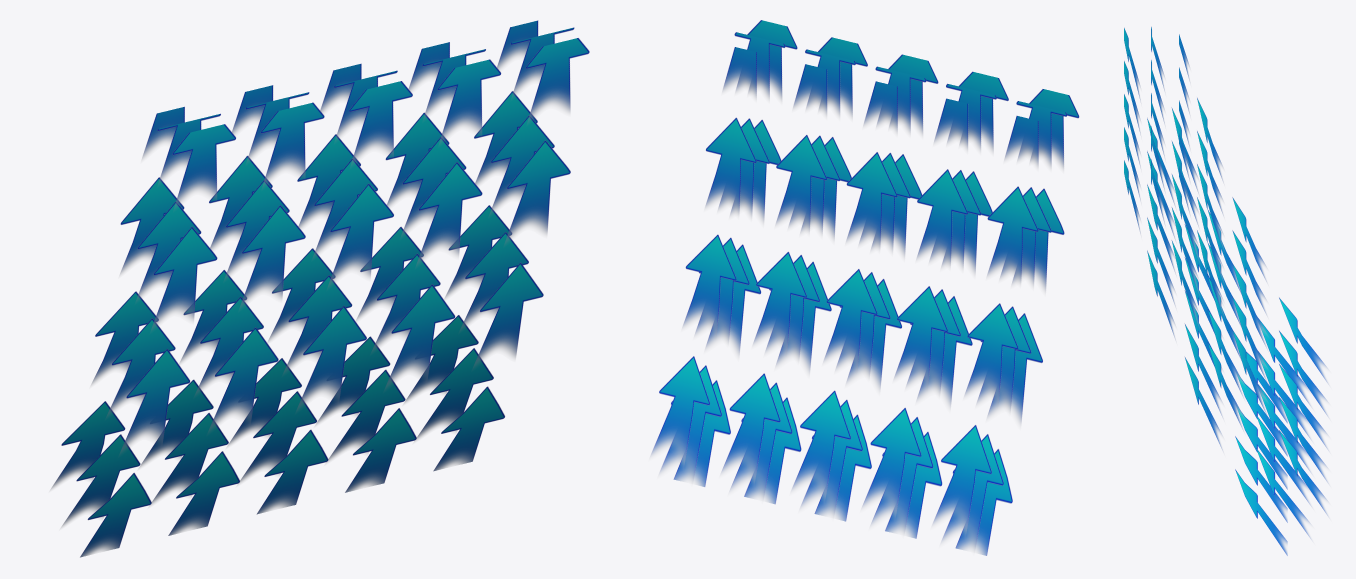
3 views of the same model, side by side, from view 1: azimuth 30°, elevation 25°; view 2: azimuth 150°, elevation 25°; view 3: azimuth 270°, elevation 25° (orthographic). The views are drawn at different scales.
Parts seen in each view (by area): view 1: Line003; view 2: Line003; view 3: Line003.
Boxes of the visible parts, box(x1,y1,x2,y2) form: Line003: box(51, 20, 589, 557); Line003: box(650, 20, 1079, 555); Line003: box(1124, 27, 1330, 555).
Bounding box in the file's own units: 0.6 × 0.6503 × 0.3347.
Materials: 1 (1 with a texture image).
